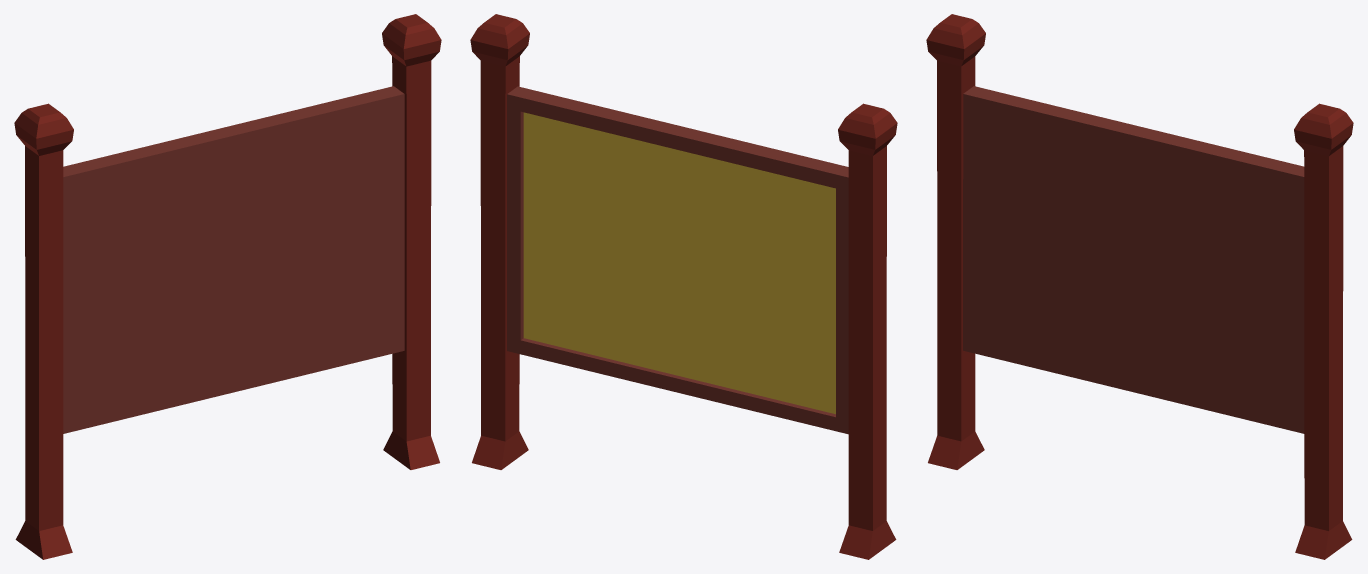
Rendered from CartelTuto.fbx.
The picture shows the model from 3 angles, left to right: view 1: azimuth 30°, elevation 25°; view 2: azimuth 150°, elevation 25°; view 3: azimuth 330°, elevation 25°; orthographic projection.
Visible parts, largest first — view 1: Cube.003; view 2: Cube.003; view 3: Cube.003.
Part boxes in pixels (x1=…): Cube.003: x1=14, y1=14, x2=441, y2=559; Cube.003: x1=470, y1=14, x2=897, y2=559; Cube.003: x1=926, y1=14, x2=1353, y2=559.
Size of the model in its own units: 1.45 by 0.1711 by 1.49.
